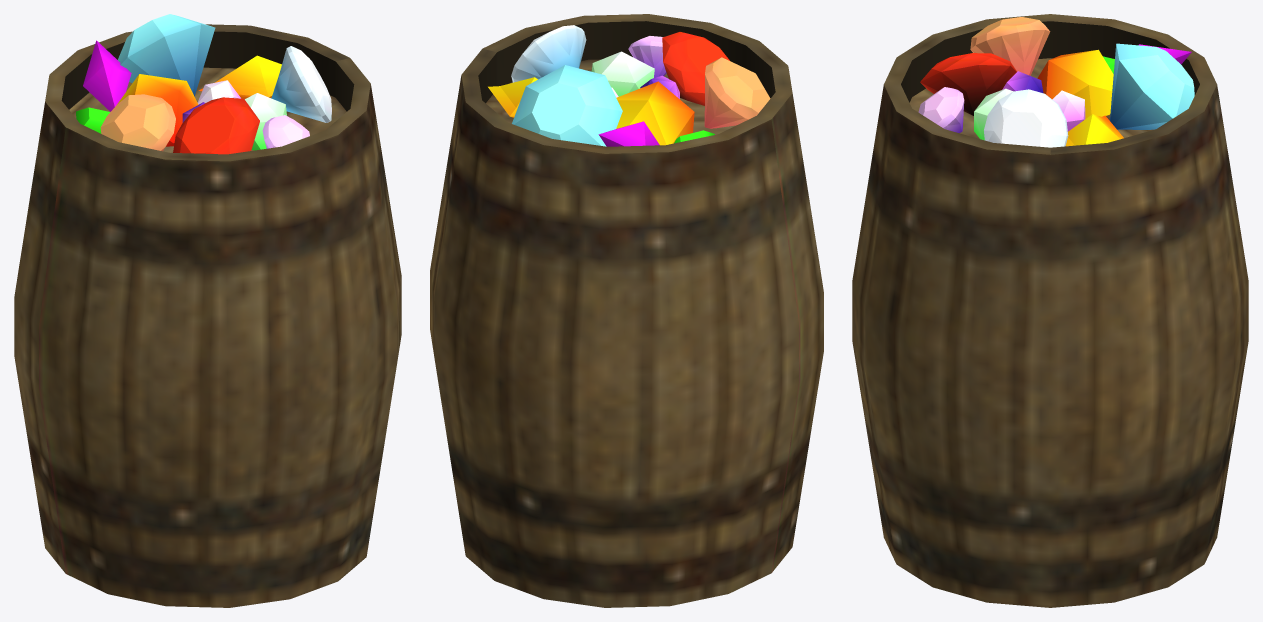
The model's file is b7660198-4b61-4cc5-ae7c-c25f2ffbc8e3.glb.
The picture shows the model from 3 angles, left to right: view 1: azimuth 30°, elevation 25°; view 2: azimuth 150°, elevation 25°; view 3: azimuth 270°, elevation 25°; orthographic projection.
Visible parts, largest first — view 1: BarrelFullOfGems; view 2: BarrelFullOfGems; view 3: BarrelFullOfGems.
Part boxes in pixels (<box>): BarrelFullOfGems: <box>14,14,401,607</box>; BarrelFullOfGems: <box>430,14,823,607</box>; BarrelFullOfGems: <box>852,14,1248,607</box>.
Size of what is drawn, in the model's own units: 0.932 by 1.27 by 0.932.
Materials: 2 (2 with a texture image).
